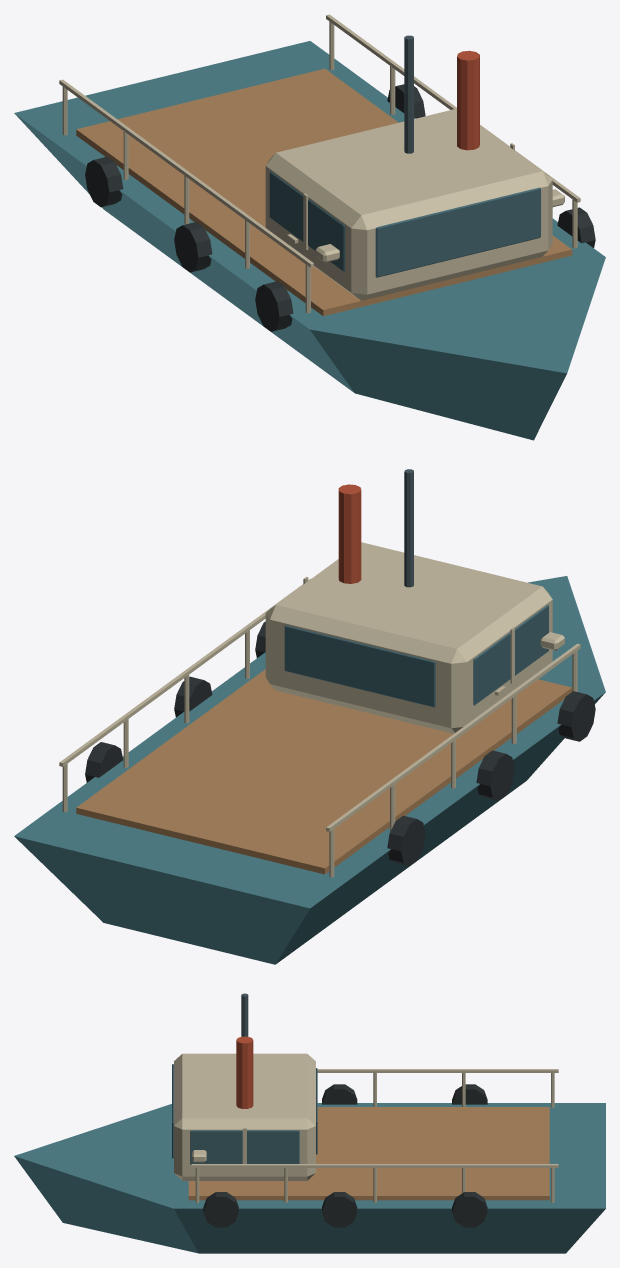
File: vessel_tug.glb
3 views of the same model, one above another, from view 1: azimuth 30°, elevation 25°; view 2: azimuth 150°, elevation 25°; view 3: azimuth 270°, elevation 25° (orthographic). The views are drawn at different scales.
Parts seen in each view (by area): view 1: vessel_tug; view 2: vessel_tug; view 3: vessel_tug.
Boxes of the visible parts, box(x1,y1,x2,y2) form: vessel_tug: box(14, 14, 605, 440); vessel_tug: box(14, 469, 605, 964); vessel_tug: box(14, 993, 605, 1253).
Size of the model in its own units: 4.06 by 3.82 by 9.
